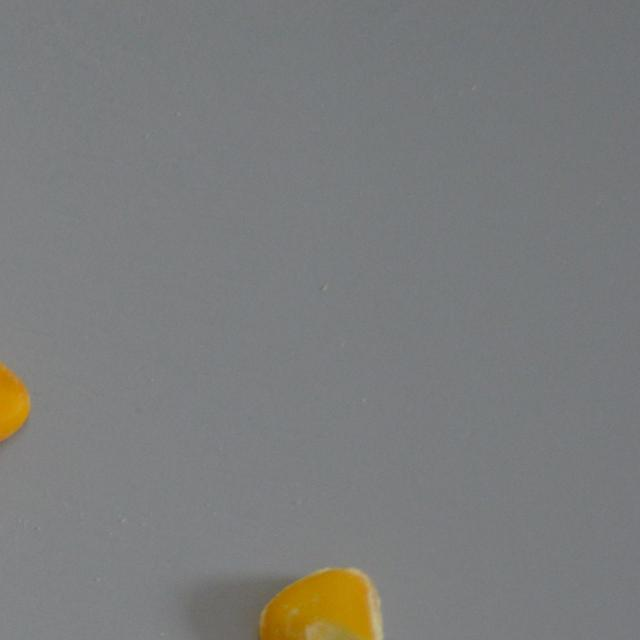pelicula: (258, 566, 382, 640), (0, 347, 30, 458)
